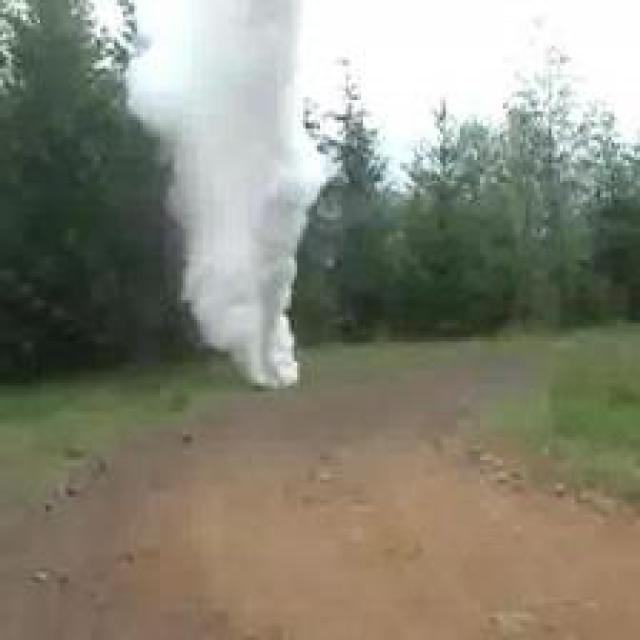Smoke: (129, 0, 326, 388)
